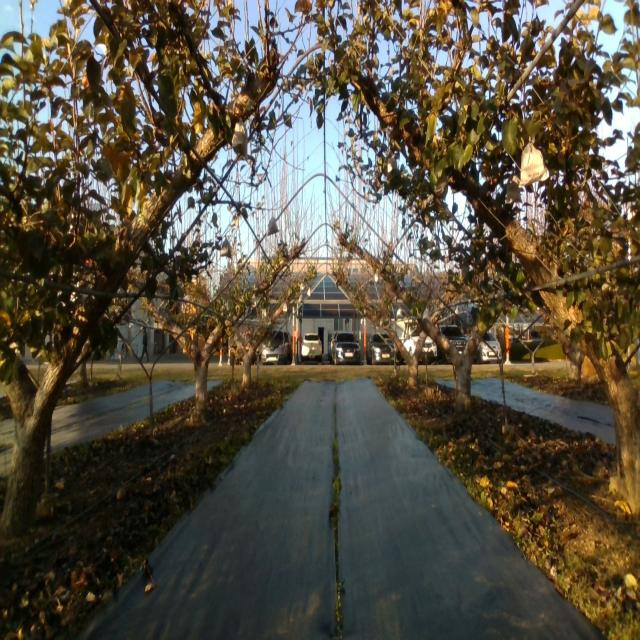pearbags: (519, 138, 549, 188), (232, 118, 248, 160), (504, 175, 522, 204), (221, 237, 232, 259), (266, 216, 278, 235)
